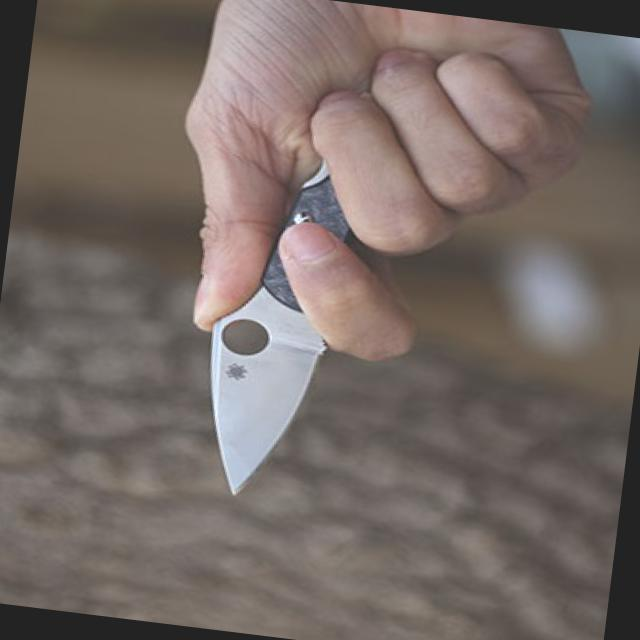knife: (152, 70, 484, 528)
